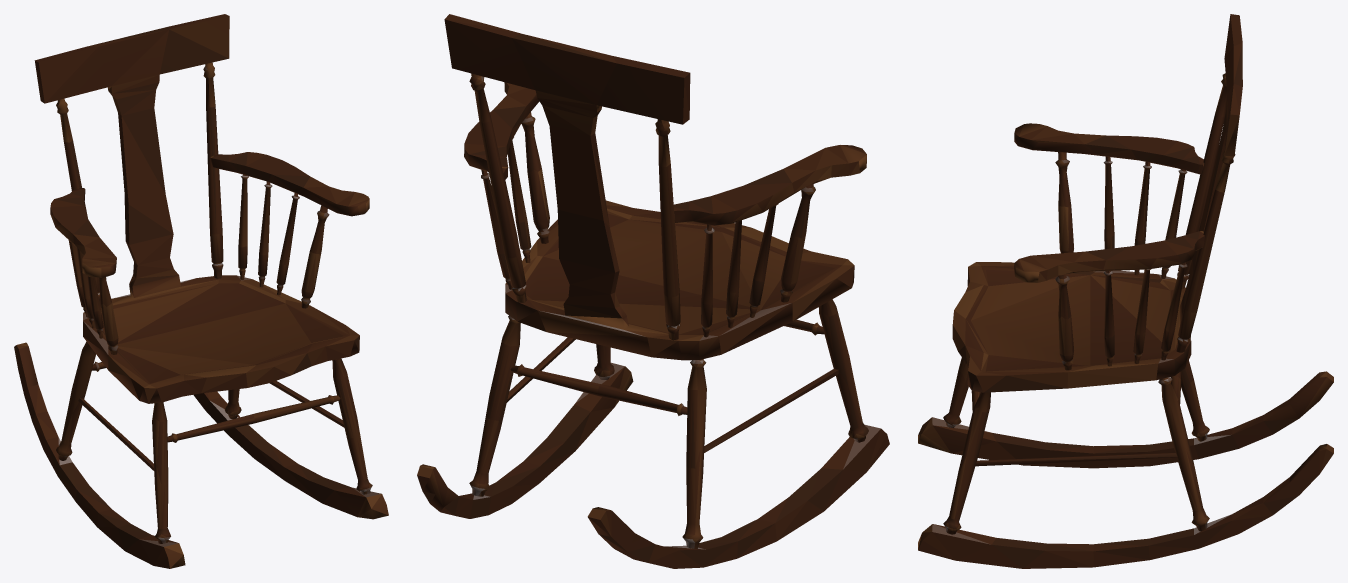
The model's file is rockingchair.glb.
3 renders of one model, left to right at view 1: azimuth 30°, elevation 25°; view 2: azimuth 150°, elevation 25°; view 3: azimuth 270°, elevation 25°, orthographic. The views are drawn at different scales.
Visible parts, largest first — view 1: rockingchair; view 2: rockingchair; view 3: rockingchair.
Boxes of the visible parts, left/top/right/bottom form: rockingchair: left=14, top=14, right=388, bottom=568; rockingchair: left=417, top=14, right=889, bottom=568; rockingchair: left=918, top=14, right=1333, bottom=568.
Size of the model in its own units: 0.7075 by 0.9945 by 0.8337.
